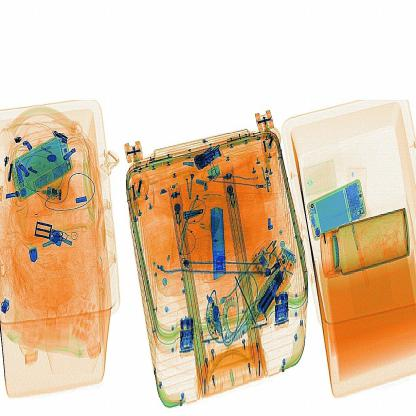pliers: (200, 195, 231, 296)
